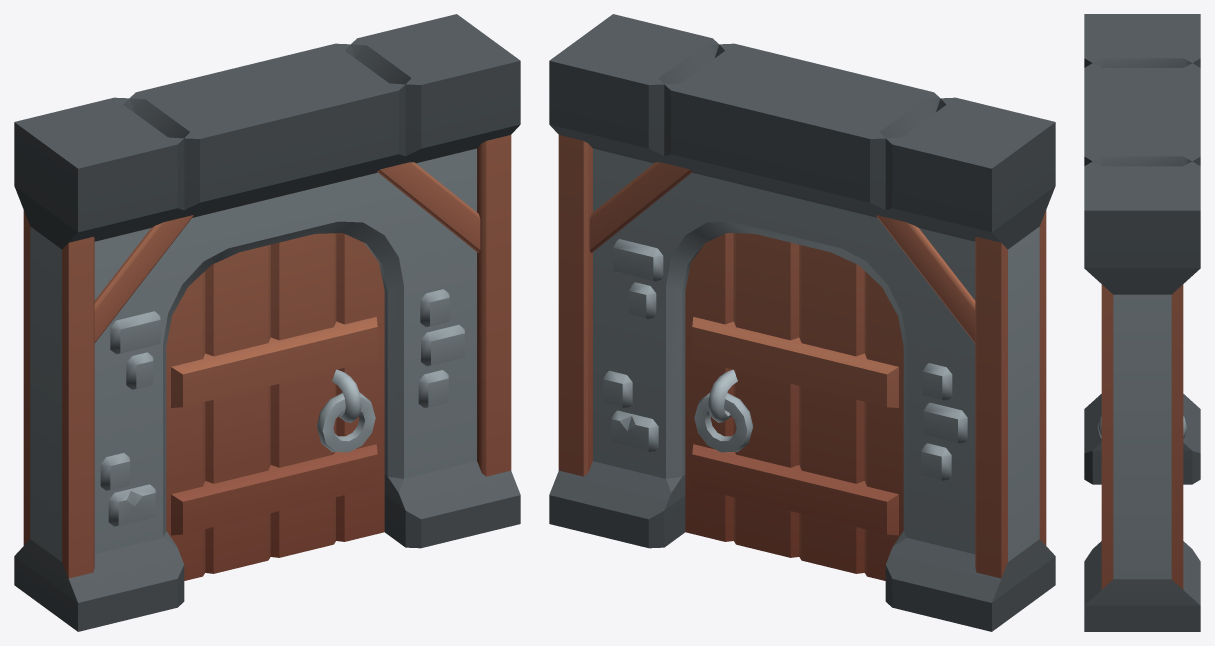
The model's file is wall_doorway_scaffold.glb.
The picture shows the model from 3 angles, left to right: view 1: azimuth 30°, elevation 25°; view 2: azimuth 150°, elevation 25°; view 3: azimuth 270°, elevation 25°; orthographic projection. The views are drawn at different scales.
Parts seen in each view (by area): view 1: Cube.13133, wall_doorway_scaffold_door; view 2: Cube.13133, wall_doorway_scaffold_door; view 3: Cube.13133.
Part boxes in pixels (bbox=[...]): Cube.13133: bbox=[14, 14, 520, 631]; wall_doorway_scaffold_door: bbox=[166, 233, 384, 580]; Cube.13133: bbox=[549, 14, 1055, 631]; wall_doorway_scaffold_door: bbox=[685, 233, 903, 580]; Cube.13133: bbox=[1084, 14, 1200, 631].
Bounding box in the file's own units: 4 × 4 × 1.
Materials: 1 (1 with a texture image).
